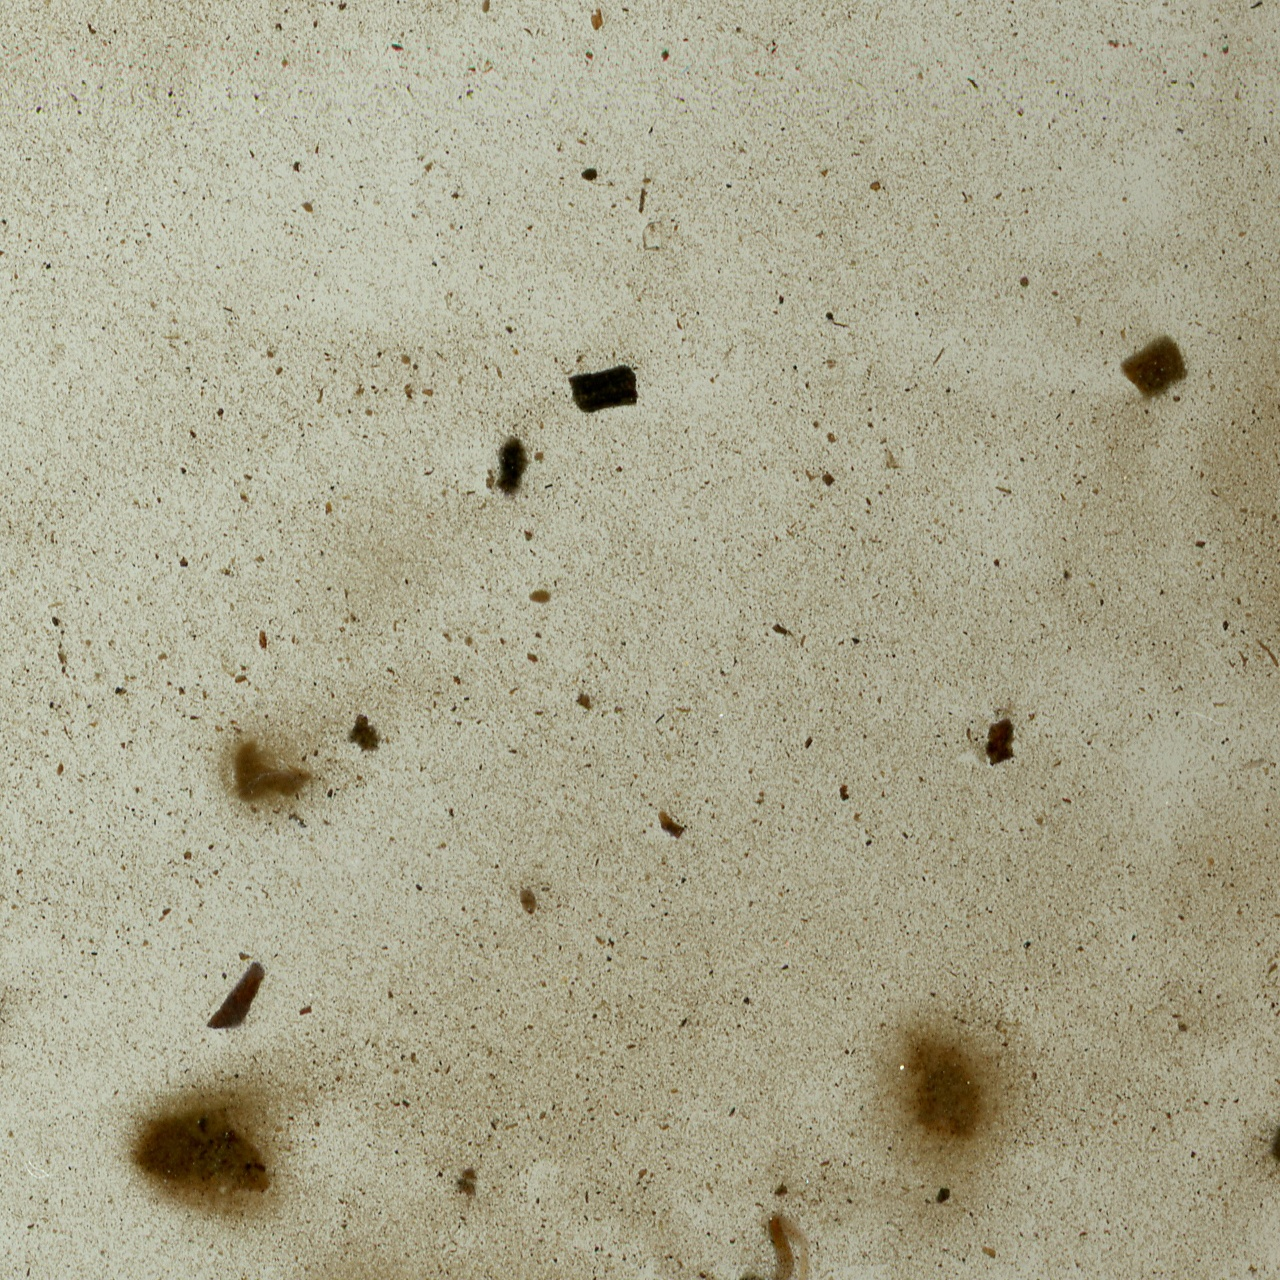arthropod: (648, 1197, 879, 1280)
